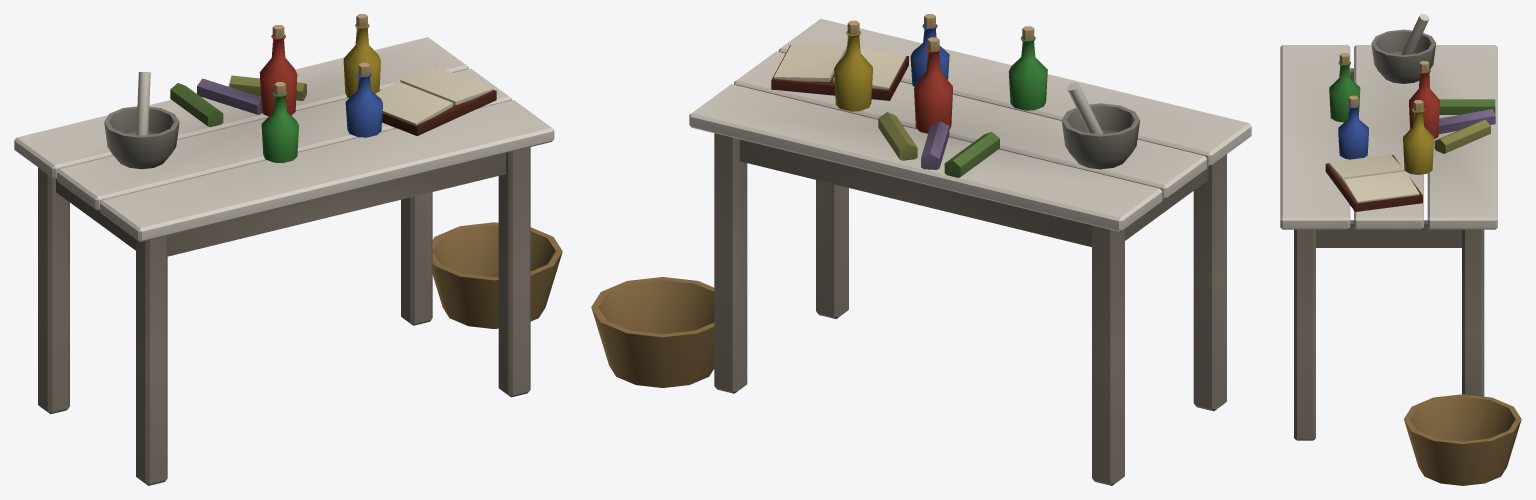
Rendered from herb_table.glb.
The picture shows the model from 3 angles, left to right: view 1: azimuth 30°, elevation 25°; view 2: azimuth 150°, elevation 25°; view 3: azimuth 270°, elevation 25°; orthographic projection. The views are drawn at different scales.
Visible parts, largest first — view 1: herb_table; view 2: herb_table; view 3: herb_table.
Boxes of the visible parts, x1,y1,x2,y2 form: herb_table: [14, 14, 562, 485]; herb_table: [591, 14, 1251, 485]; herb_table: [1280, 14, 1521, 485].
Bounding box in the file's own units: 1.75 × 1.14 × 0.819.
